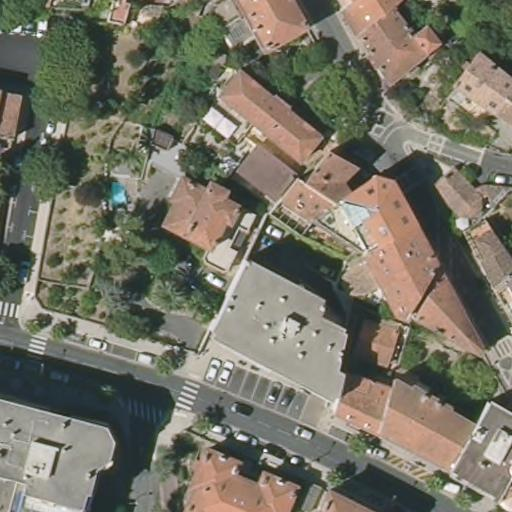pool: (103, 173, 132, 215)
